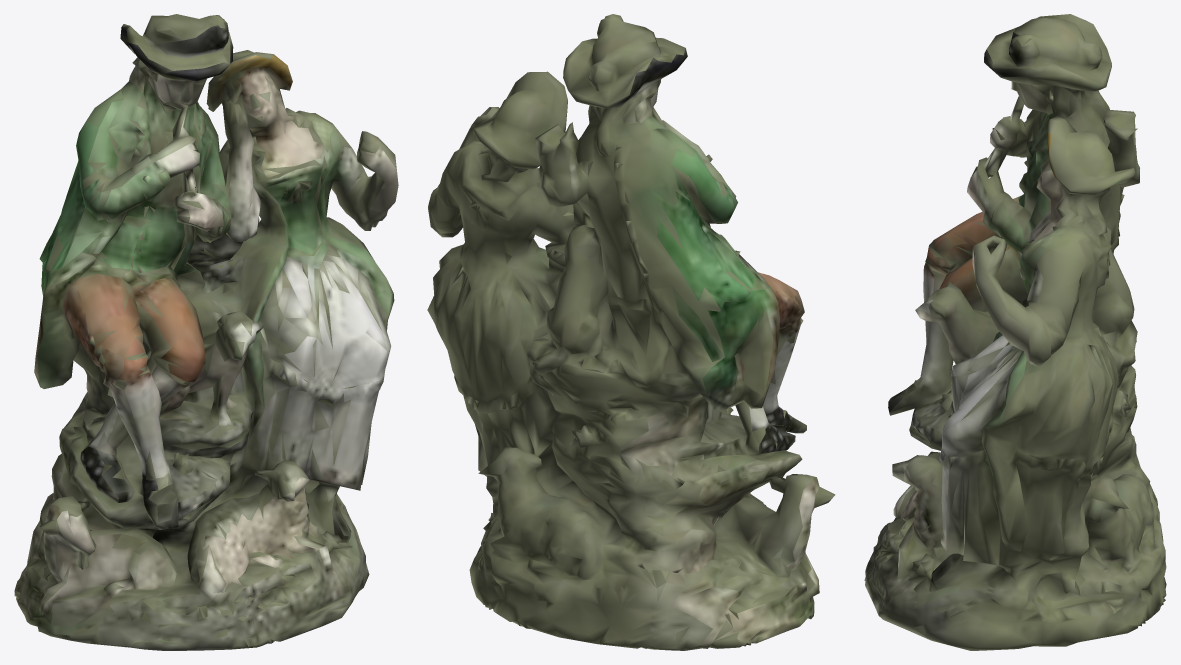
File: flute-player-20177416.glb
3 renders of one model, left to right at view 1: azimuth 30°, elevation 25°; view 2: azimuth 150°, elevation 25°; view 3: azimuth 270°, elevation 25°, orthographic.
Visible parts, largest first — view 1: Mesh; view 2: Mesh; view 3: Mesh.
Part boxes in pixels (box(x1,y1,x2,y2)): Mesh: box(14, 14, 398, 650); Mesh: box(427, 14, 835, 650); Mesh: box(864, 14, 1166, 650).
Size of the model in its own units: 0.1773 by 0.2539 by 0.1242.
1 material, 1 textured.
